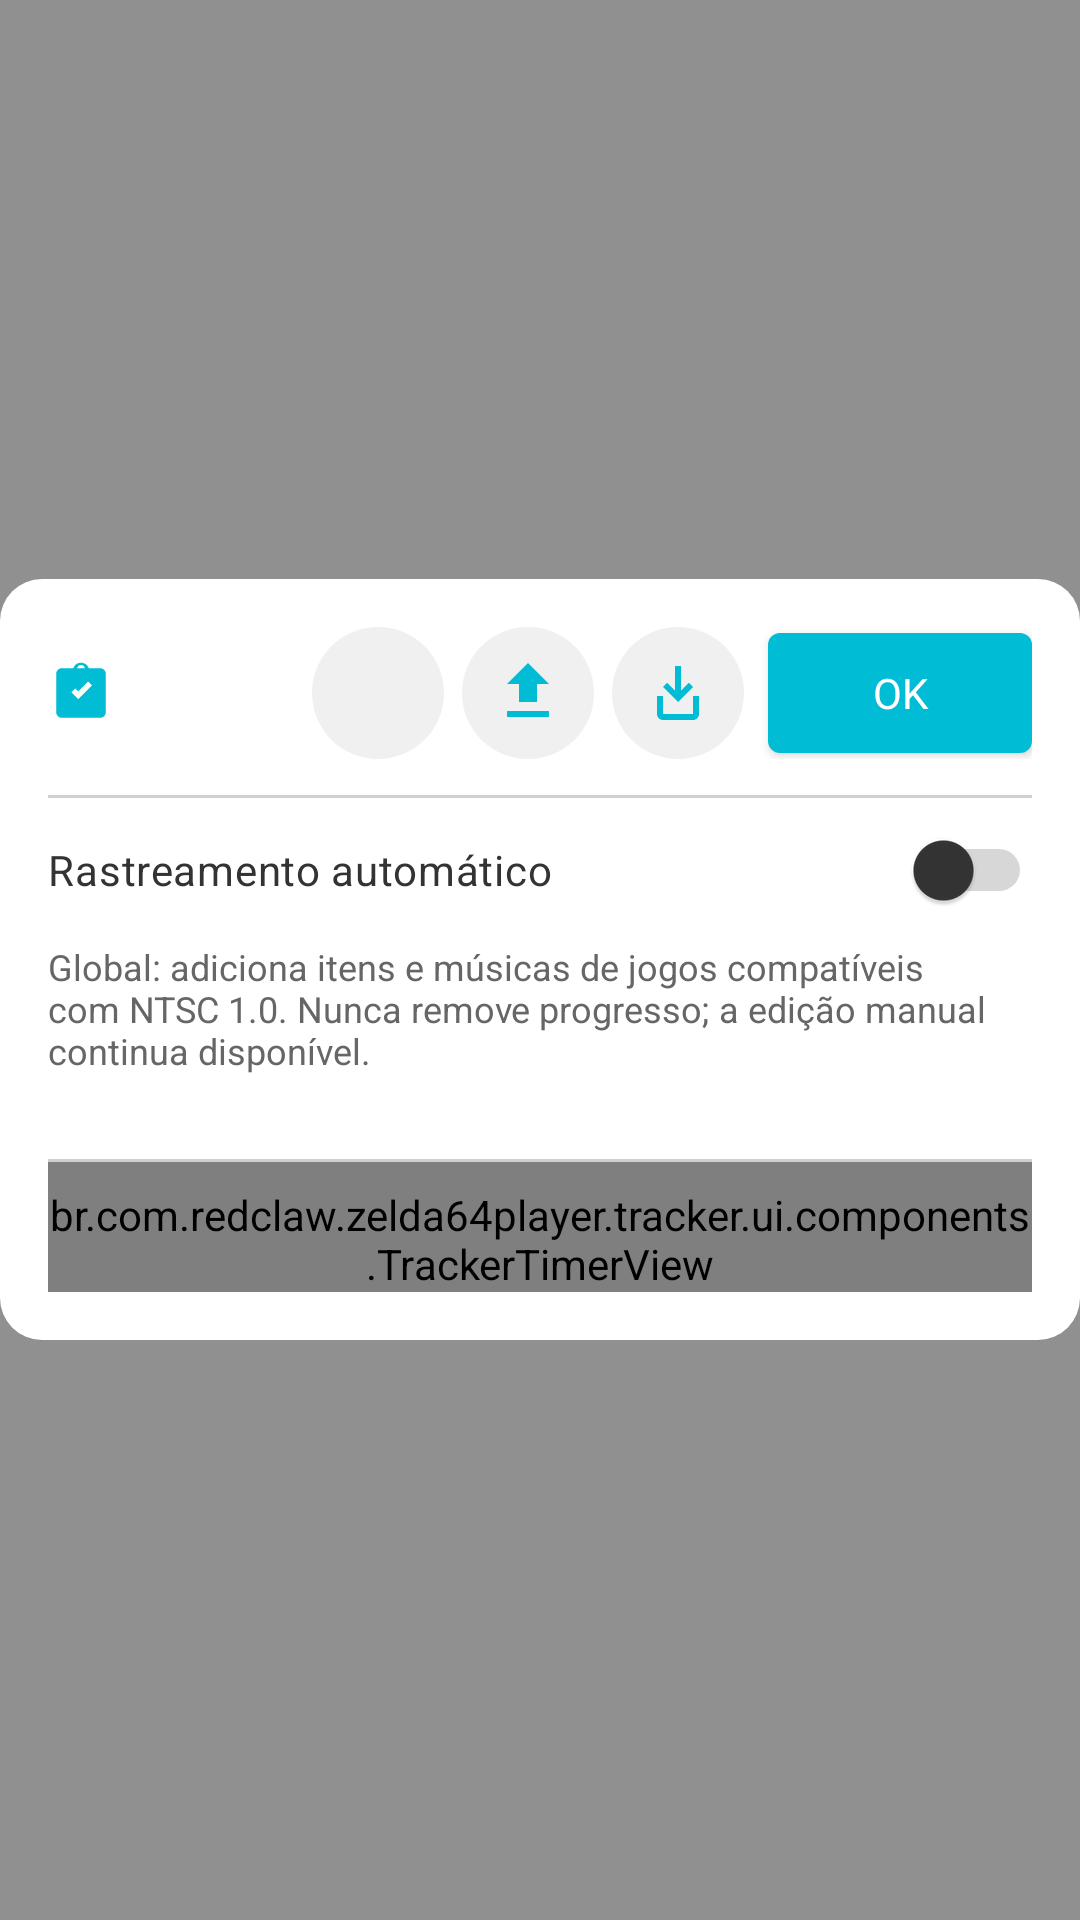

Where to tap for icons on this 1080*1920 app screen, as [x,y]:
Exportar: [528,693]
Importar: [678,693]
tracker: [81,690]
